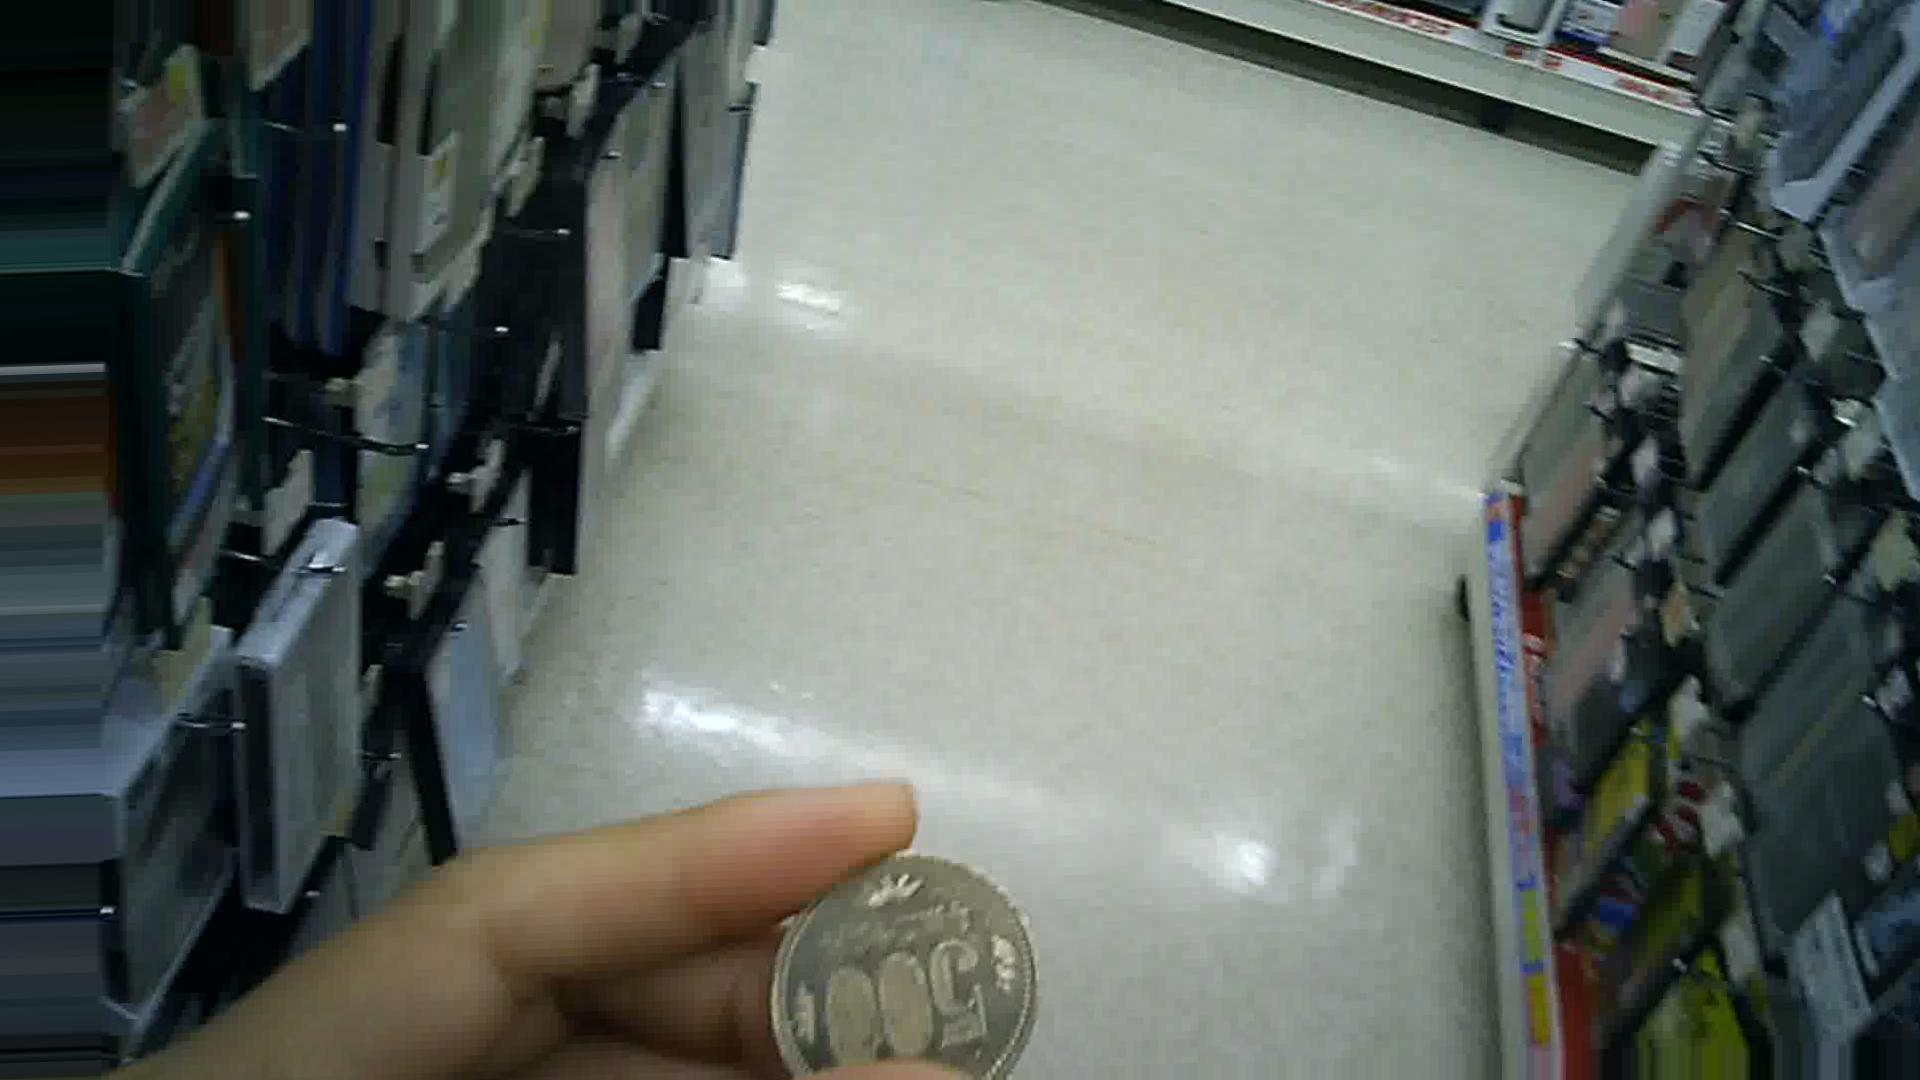500 Yen: (731, 832, 1076, 1071)
